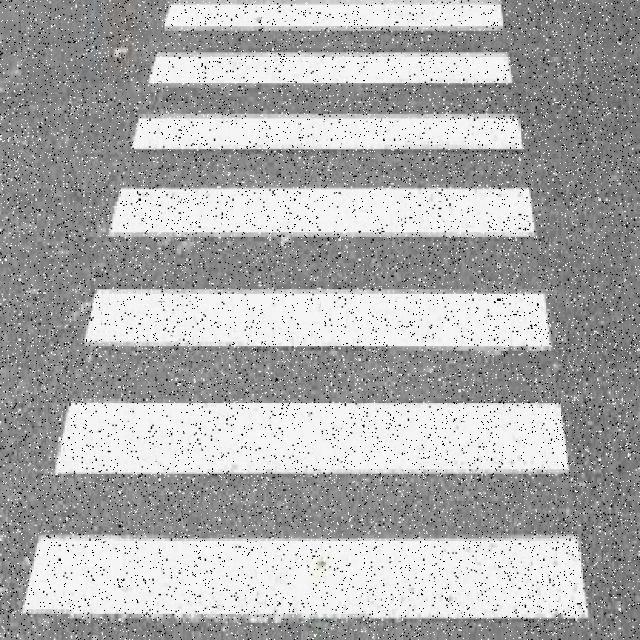crosswalk: (19, 0, 590, 617)
